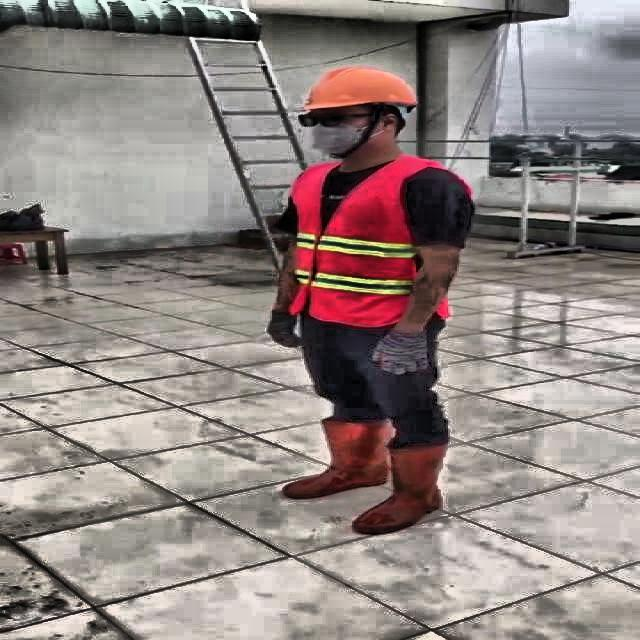safety_jacket: (286, 158, 457, 328)
